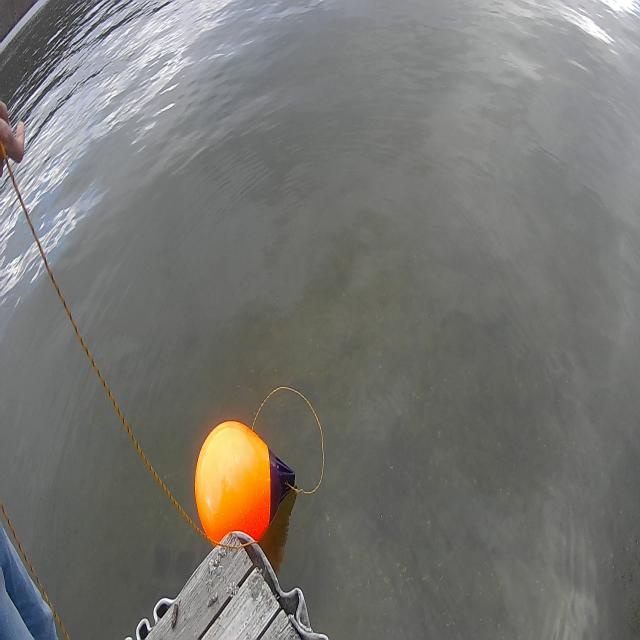Buoy: (179, 399, 306, 561)
